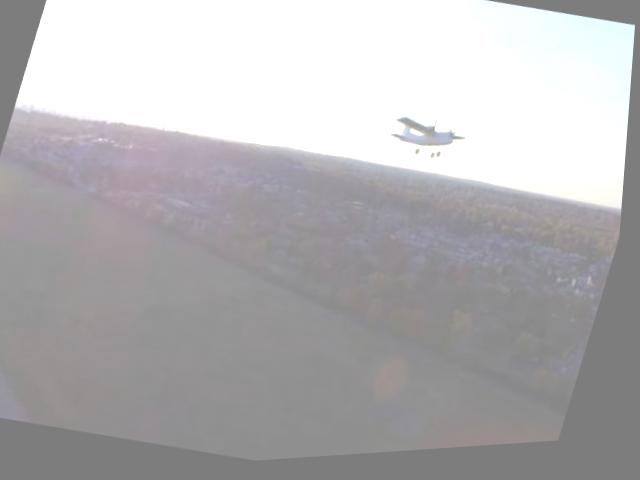uav: (388, 114, 473, 164)
